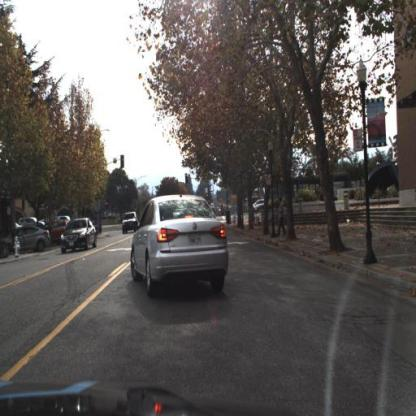car: (129, 190, 231, 313), (61, 215, 97, 255), (16, 224, 45, 253), (121, 211, 139, 234)
pedestrian: (277, 197, 287, 239)
trafficLight-Red: (186, 174, 190, 186)
